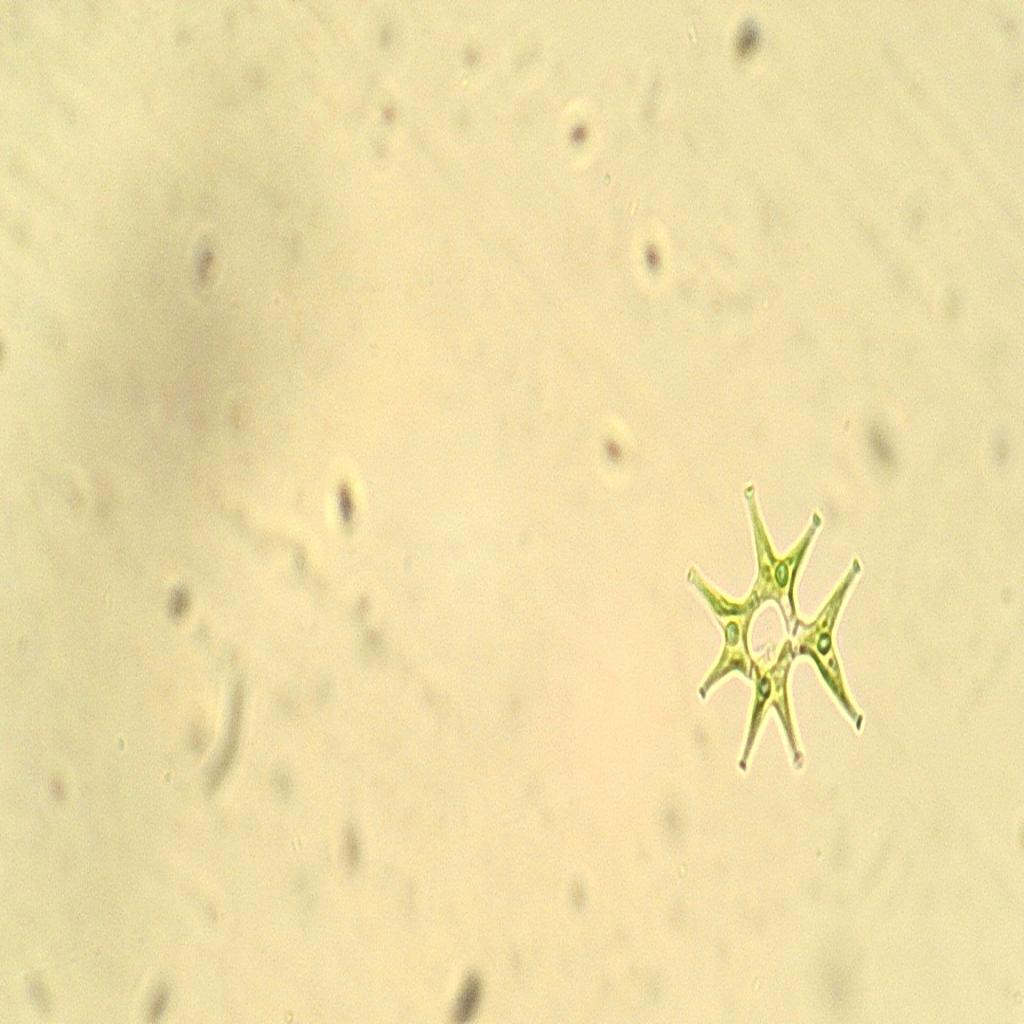Pediastrum_75FI: (683, 469, 864, 800)
